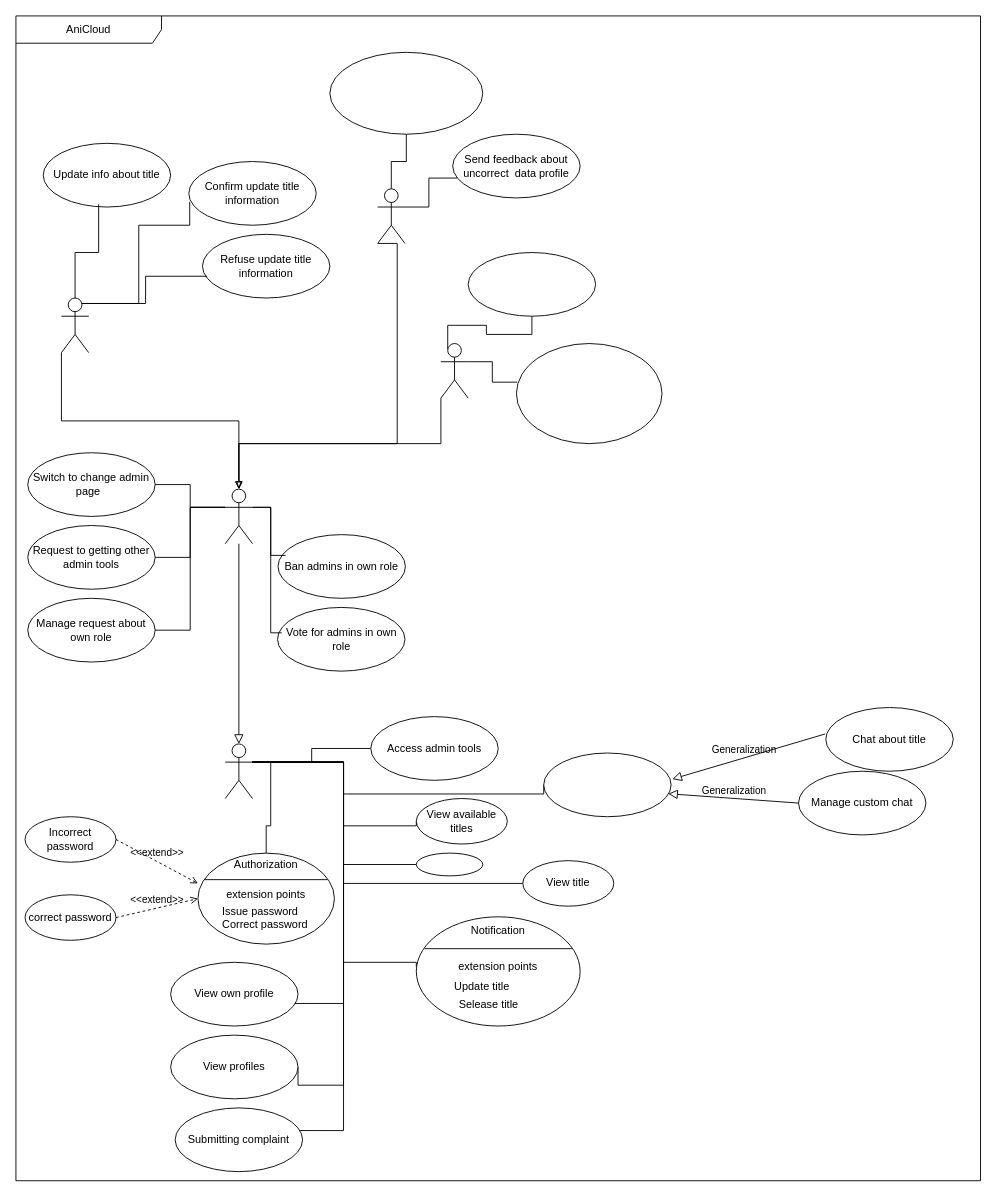
The diagram is 996 pixels wide and 1197 high, and some of its shapes have lost their labels. Here are the shapes that lost their labels. From the top down, the centre of each, then its label:
point (406, 92): Review notification about user`s profile
point (391, 215): Admin-User
point (531, 284): Ban users through vocabulary
point (75, 325): Admin-Title
point (454, 370): Admin-Chat
point (589, 393): Review notification about users words in chats
point (238, 516): Admin
point (238, 771): User
point (607, 784): Access Chats
point (449, 864): Find title
